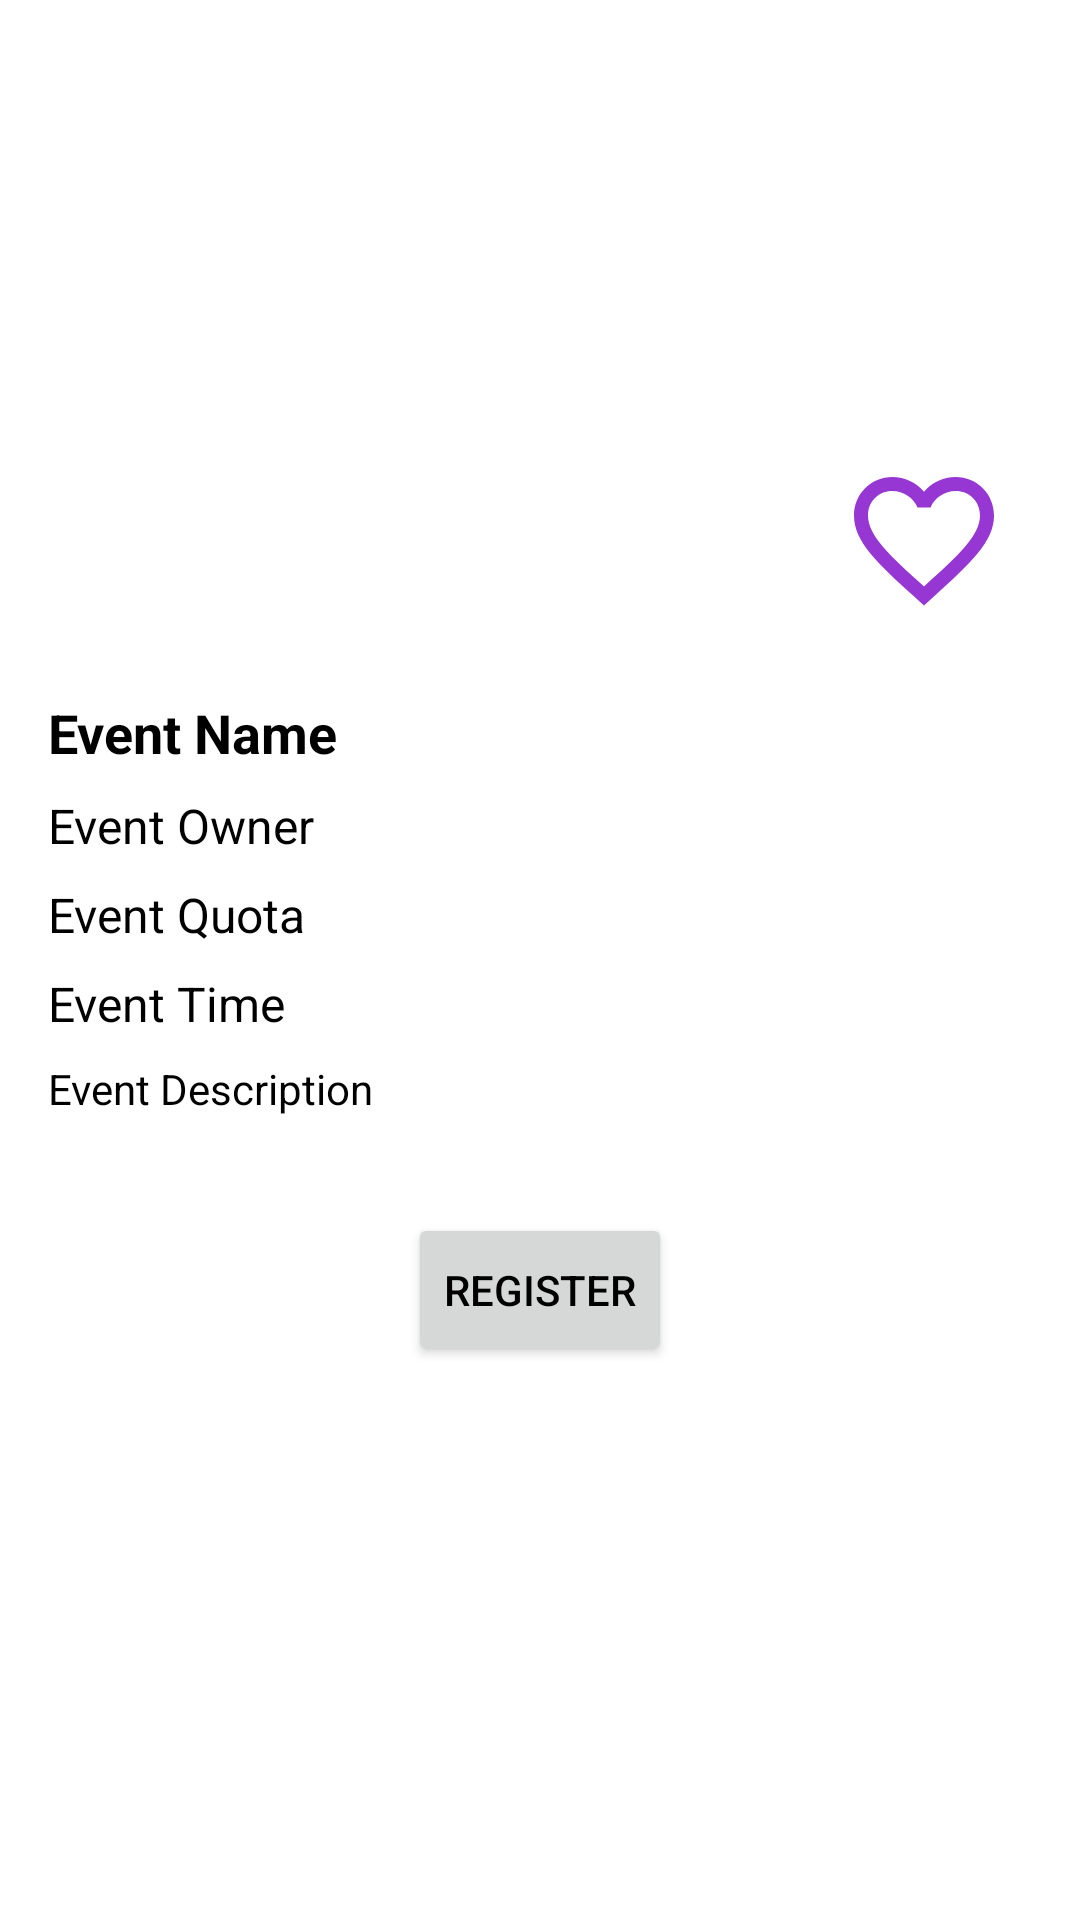

Named icons in this screenshot (1080*1920) and their bounding boxes, (left=x1, top=y1, right=x2, bottom=y2):
Favorite Button: (left=854, top=477, right=994, bottom=606)
